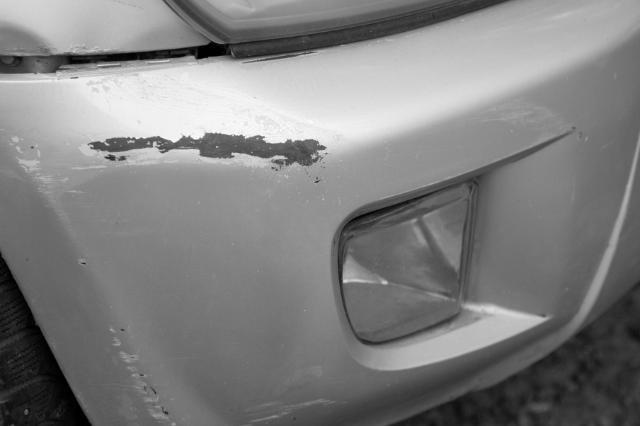Bumper: (0, 61, 470, 426)
